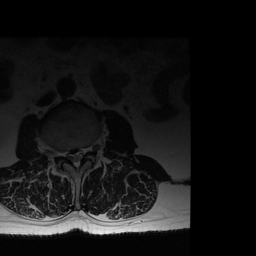CCS_normal: (73, 146, 79, 175)
LFS_stenosis: (84, 139, 92, 158)
LLS_stenosis: (78, 143, 84, 163)
RFS_stenosis: (58, 145, 65, 163)
RLS_stenosis: (66, 147, 72, 166)
